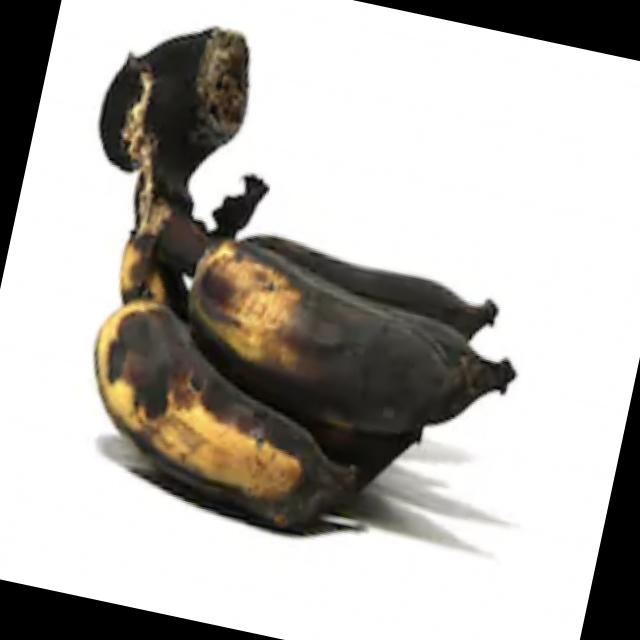rotten-banana: (64, 312, 362, 527), (182, 263, 504, 433)
